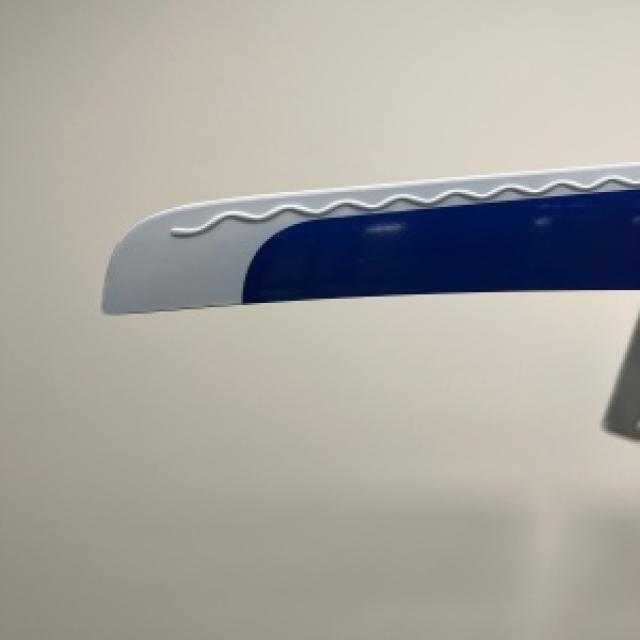healthy: (100, 164, 638, 311)
